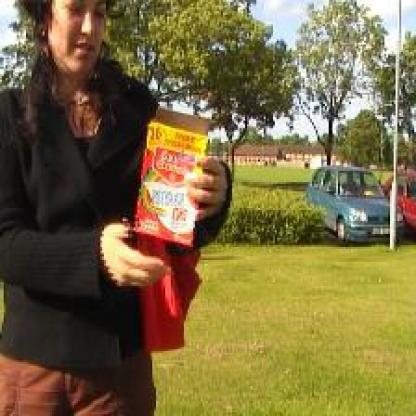other: (139, 232, 207, 350), (144, 114, 197, 240)
